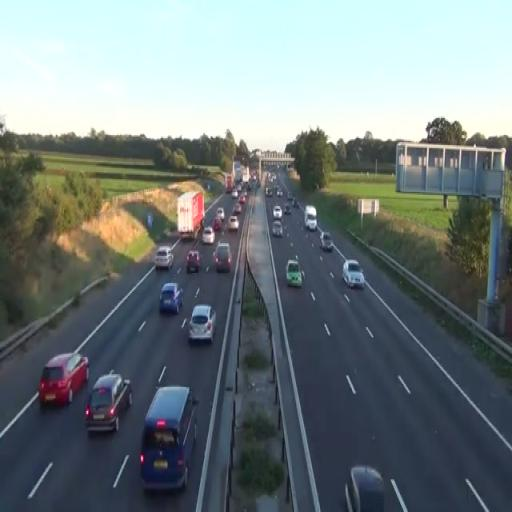Car: (140, 385, 200, 493), (84, 372, 134, 434), (38, 351, 89, 407), (345, 465, 385, 512), (188, 304, 217, 344), (159, 282, 184, 315), (342, 259, 364, 289), (213, 242, 232, 274), (285, 258, 302, 288), (154, 246, 174, 270), (186, 250, 202, 274), (272, 221, 283, 238), (228, 216, 238, 232), (273, 205, 282, 219)
Truck: (140, 383, 200, 493), (177, 190, 205, 240)
